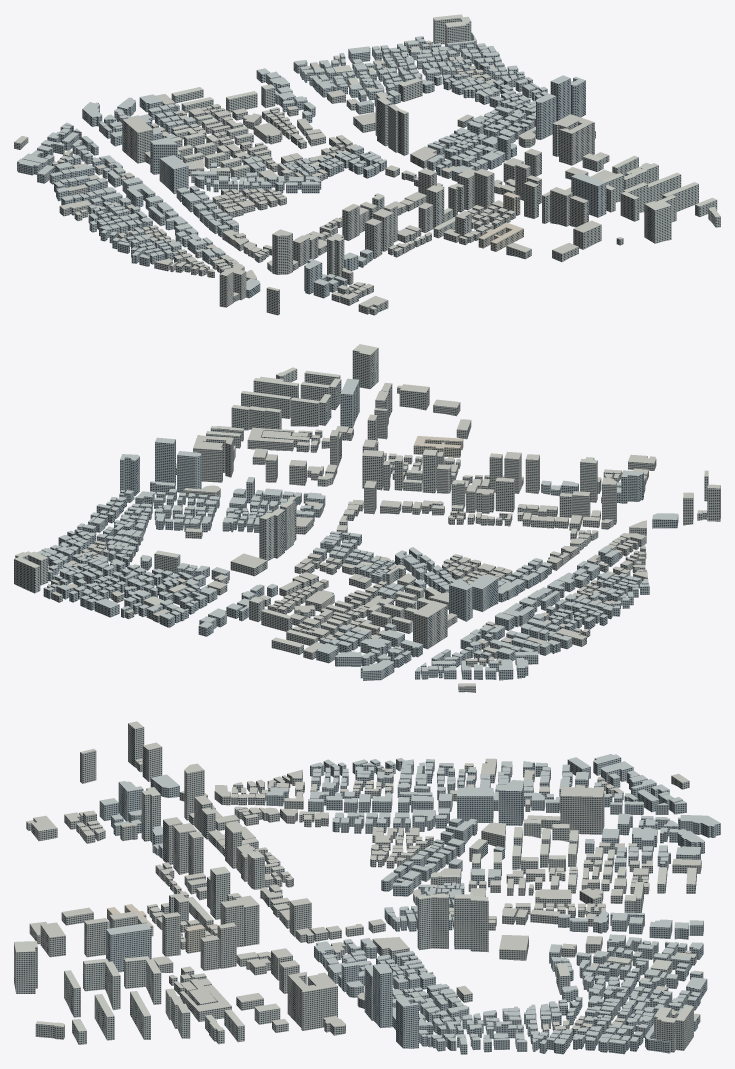
Rendered from city_1_2.glb.
3 views of the same model, one above another, from view 1: azimuth 30°, elevation 25°; view 2: azimuth 150°, elevation 25°; view 3: azimuth 270°, elevation 25° (orthographic). The views are drawn at different scales.
Bounding box in the file's own units: 1024 × 117 × 1054.
5 materials, 5 textured.
